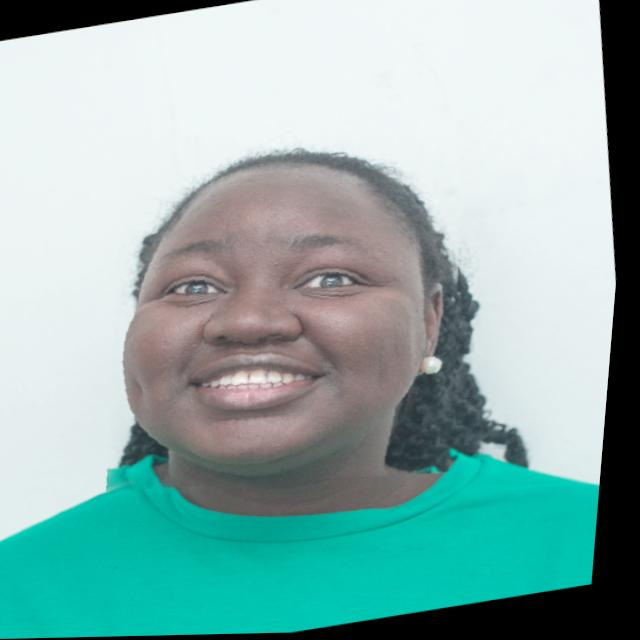happy: (74, 94, 509, 519)
